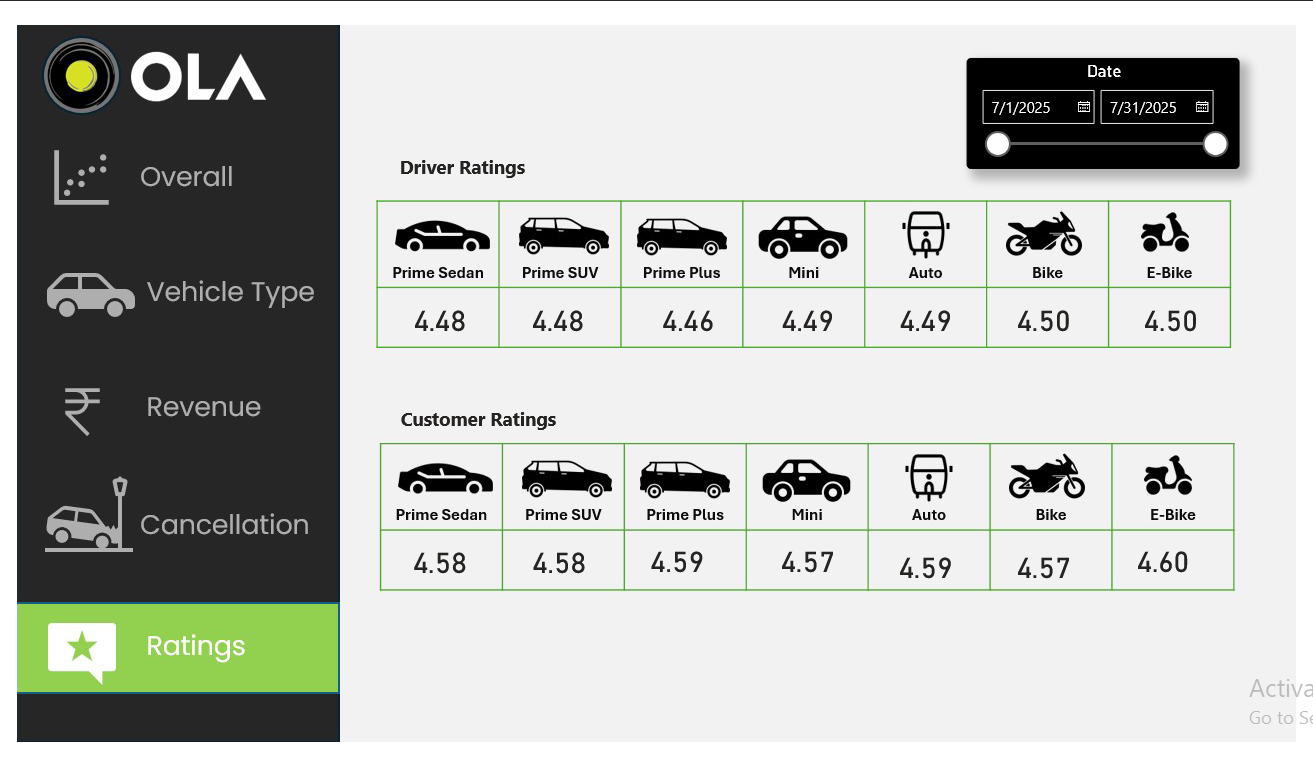

What the dashboard file says about the page in this screenshot:
{"tool":"powerbi","page":{"name":"Ratings","canvas":[1280,720],"ordinal":4},"visuals":[{"type":"actionButton","box":[0,217.3,324.6,90.7],"z":0},{"type":"actionButton","box":[0,327.2,324.6,90.7],"z":1000},{"type":"actionButton","box":[0,446,324.6,90.7],"z":2000},{"type":"actionButton","box":[0,572.5,324.6,90.7],"z":3000},{"type":"actionButton","box":[0,122.7,324.6,90.7],"z":4000},{"type":"card","fields":{"Values":["Avg(Bookings.Driver Ratings)"]},"box":[363.2,262.1,118.4,64.7],"z":5000},{"type":"card","fields":{"Values":["Avg(Bookings.Driver Ratings)"]},"box":[481.6,262.1,118.4,64.7],"z":6000},{"type":"card","fields":{"Values":["Avg(Bookings.Driver Ratings)"]},"box":[612.7,262.1,118.4,64.7],"z":7000},{"type":"card","fields":{"Values":["Avg(Bookings.Driver Ratings)"]},"box":[731.1,262.1,118.4,64.7],"z":8000},{"type":"card","fields":{"Values":["Avg(Bookings.Driver Ratings)"]},"box":[849.6,262.1,118.4,64.7],"z":9000},{"type":"card","fields":{"Values":["Avg(Bookings.Driver Ratings)"]},"box":[968,262.1,118.4,64.7],"z":10000},{"type":"card","fields":{"Values":["Avg(Bookings.Driver Ratings)"]},"box":[1103.8,262.1,101.1,64.7],"z":11000},{"type":"textbox","box":[363.2,123.2,173.7,41.1],"z":12000},{"type":"textbox","box":[379,375.8,173.7,41.1],"z":13000},{"type":"card","fields":{"Values":["Avg(Bookings.Customer Rating)"]},"box":[363.2,503.7,118.4,64.7],"z":14000},{"type":"card","fields":{"Values":["Avg(Bookings.Customer Rating)"]},"box":[483.2,503.7,118.4,64.7],"z":15000},{"type":"card","fields":{"Values":["Avg(Bookings.Customer Rating)"]},"box":[601.6,502.2,118.4,64.7],"z":16000},{"type":"card","fields":{"Values":["Avg(Bookings.Customer Rating)"]},"box":[1086.4,502.2,118.4,64.7],"z":17000},{"type":"card","fields":{"Values":["Avg(Bookings.Customer Rating)"]},"box":[968,508.5,118.4,64.7],"z":18000},{"type":"card","fields":{"Values":["Avg(Bookings.Customer Rating)"]},"box":[849.6,508.5,118.4,64.7],"z":19000},{"type":"card","fields":{"Values":["Avg(Bookings.Customer Rating)"]},"box":[731.1,502.2,118.4,64.7],"z":20000},{"type":"slicer","title":"Date","fields":{"Values":["Bookings.Date"]},"box":[949,33.2,273.2,110.5],"z":21000}]}

Visuals, with their boxes in screenshot pixels (x1, y1, x2, y2), scaled from the page's 1280x720 canvas onto the 1313x758 screenshot:
actionButton: 0:229:333:324
actionButton: 0:344:333:440
actionButton: 0:470:333:565
actionButton: 0:603:333:698
actionButton: 0:129:333:225
card - Avg(Bookings.Driver Ratings): 373:276:494:344
card - Avg(Bookings.Driver Ratings): 494:276:615:344
card - Avg(Bookings.Driver Ratings): 628:276:750:344
card - Avg(Bookings.Driver Ratings): 750:276:871:344
card - Avg(Bookings.Driver Ratings): 872:276:993:344
card - Avg(Bookings.Driver Ratings): 993:276:1114:344
card - Avg(Bookings.Driver Ratings): 1132:276:1236:344
textbox: 373:130:551:173
textbox: 389:396:567:439
card - Avg(Bookings.Customer Rating): 373:530:494:598
card - Avg(Bookings.Customer Rating): 496:530:617:598
card - Avg(Bookings.Customer Rating): 617:529:739:597
card - Avg(Bookings.Customer Rating): 1114:529:1236:597
card - Avg(Bookings.Customer Rating): 993:535:1114:603
card - Avg(Bookings.Customer Rating): 872:535:993:603
card - Avg(Bookings.Customer Rating): 750:529:871:597
"Date" slicer: 973:35:1254:151
